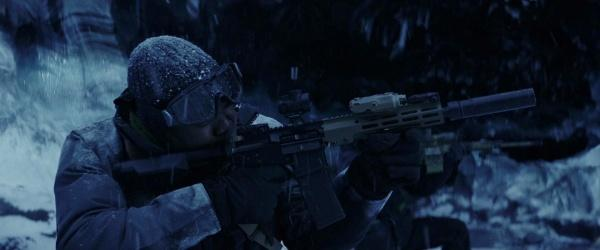rifle: (109, 80, 543, 250)
